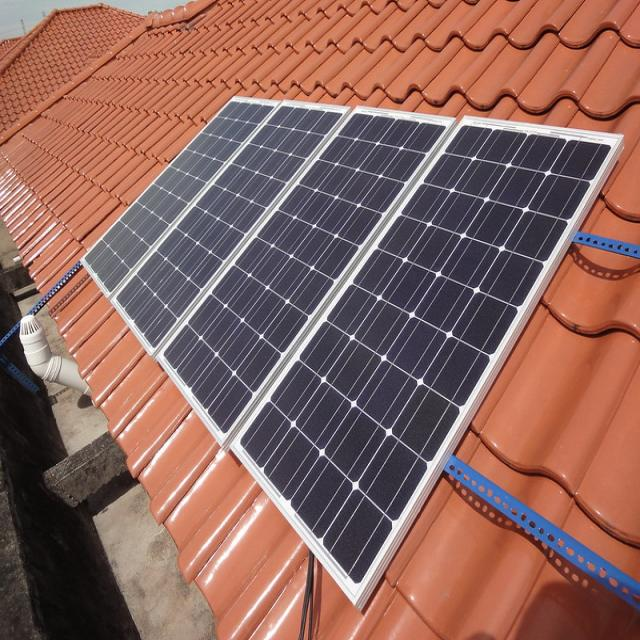no faulty: (82, 99, 617, 599)
